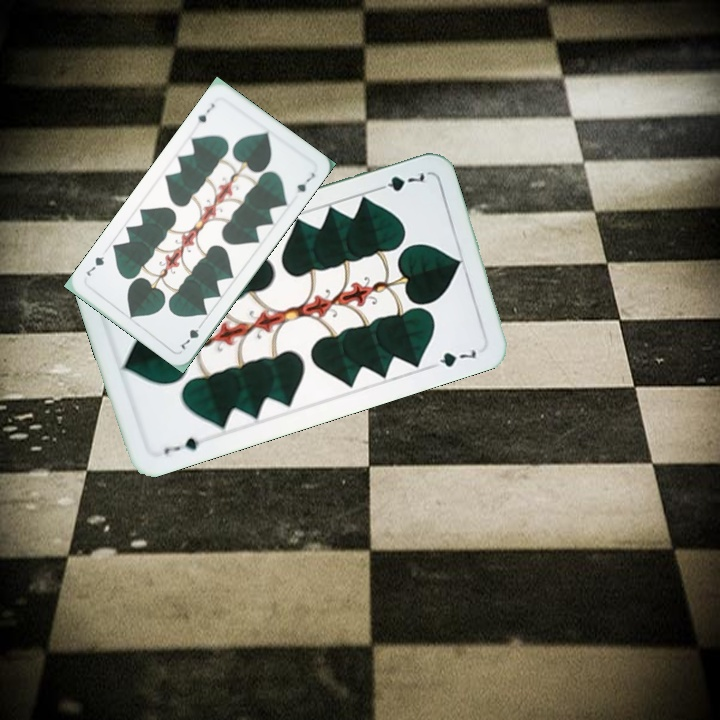G7: (371, 168, 428, 194), (159, 433, 202, 457), (176, 318, 206, 352), (194, 99, 217, 126)
